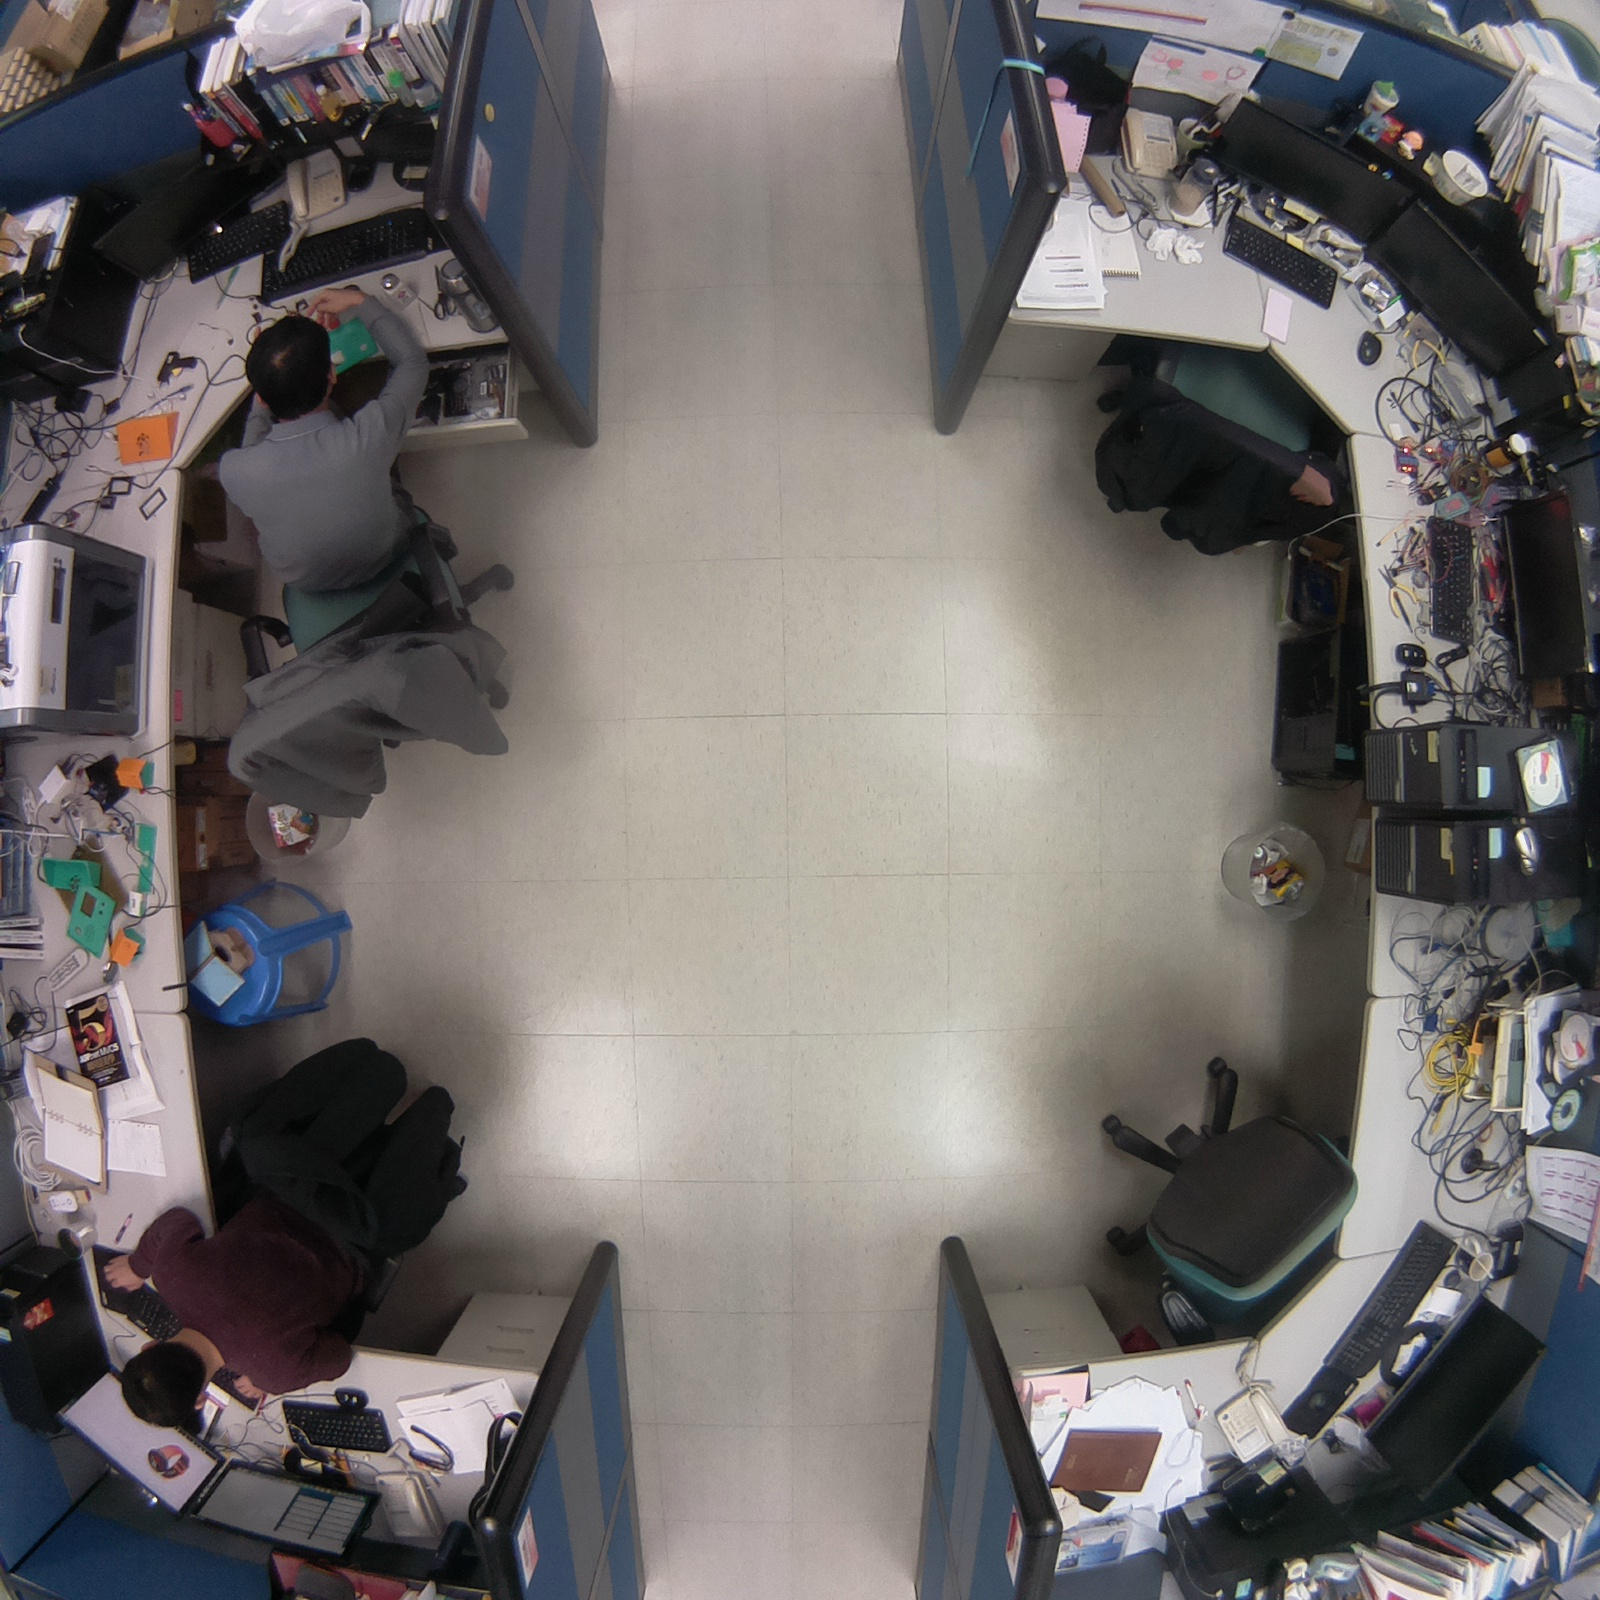chair: (1070, 1042, 1383, 1363), (1086, 315, 1366, 580)
sitting: (193, 273, 533, 853), (94, 1015, 494, 1445)
